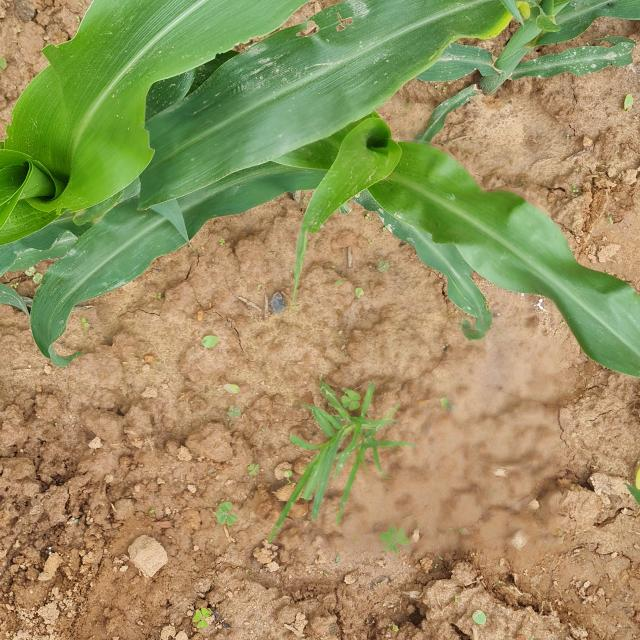maize: (0, 0, 640, 362)
weed: (296, 356, 408, 536)
